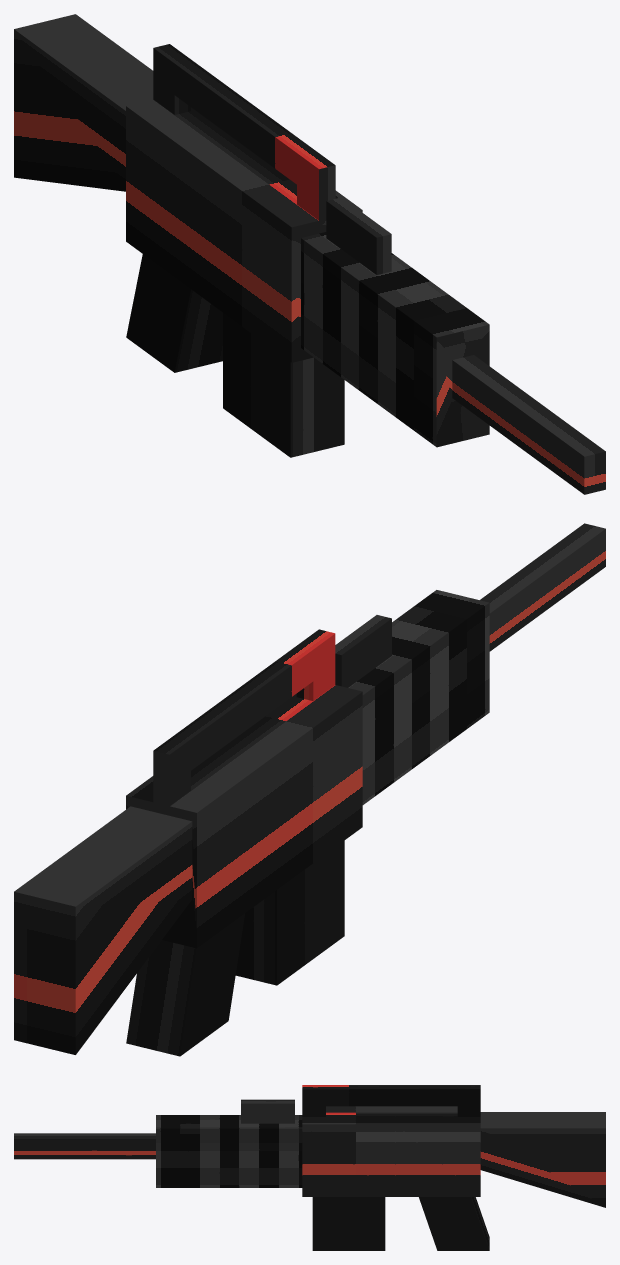
The model's file is Gun-13.fbx.
3 renders of one model, top to bottom at view 1: azimuth 30°, elevation 25°; view 2: azimuth 150°, elevation 25°; view 3: azimuth 270°, elevation 25°, orthographic. The views are drawn at different scales.
Parts seen in each view (by area): view 1: Gun-13; view 2: Gun-13; view 3: Gun-13.
Part boxes in pixels (x1,y1,x2,y2): Gun-13: (14,14,605,494); Gun-13: (14,523,605,1056); Gun-13: (14,1085,605,1250).
Bounding box in the file's own units: 10.43 × 40.9 × 140.
2 materials, 2 textured.
